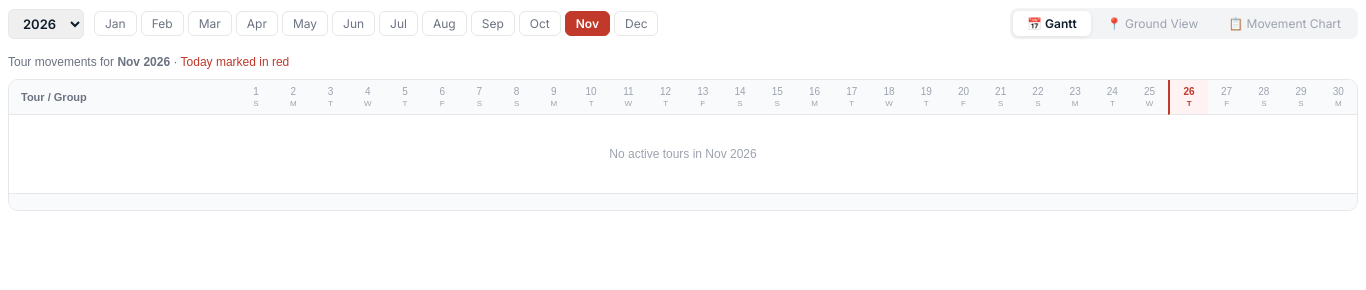
Test: Ground View shows Tour Info by date › shows that date's hotel, rooming, meals, route and notes
Click the button "📍 Ground View": (1152, 24) top-left (1093, 11), bottom-right (1212, 36)
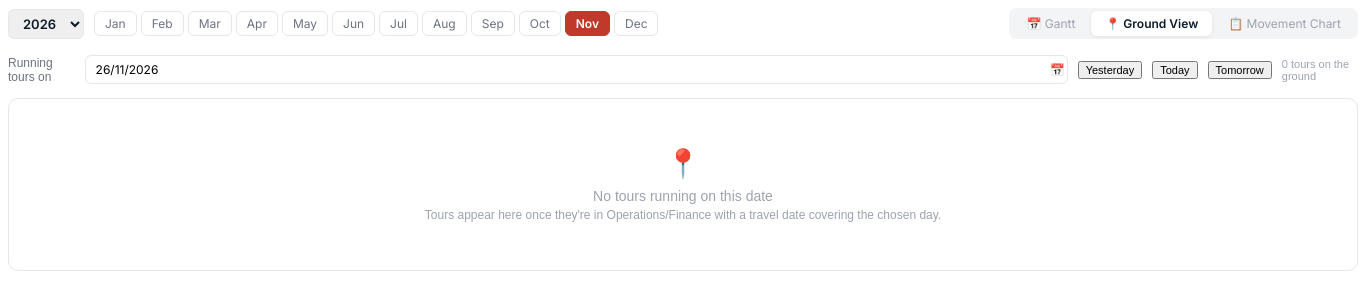
In the date field labelled "📅": (576, 70) top-left (85, 55), bottom-right (1068, 84), type "2026-10-02"
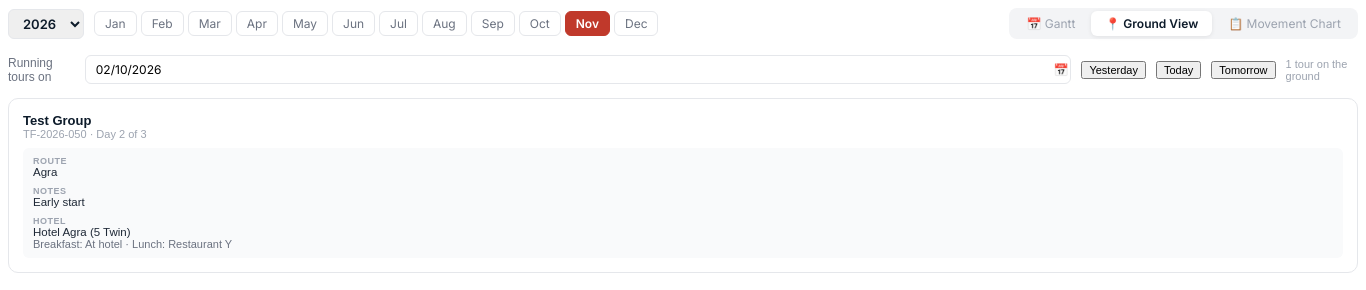
Result: the text "Agra" is shown at top-left (33, 166), bottom-right (57, 178)
Result: the text "Early start" is shown at top-left (33, 196), bottom-right (85, 208)
Result: the text "Hotel Agra (5 Twin)" is shown at top-left (33, 226), bottom-right (131, 238)
